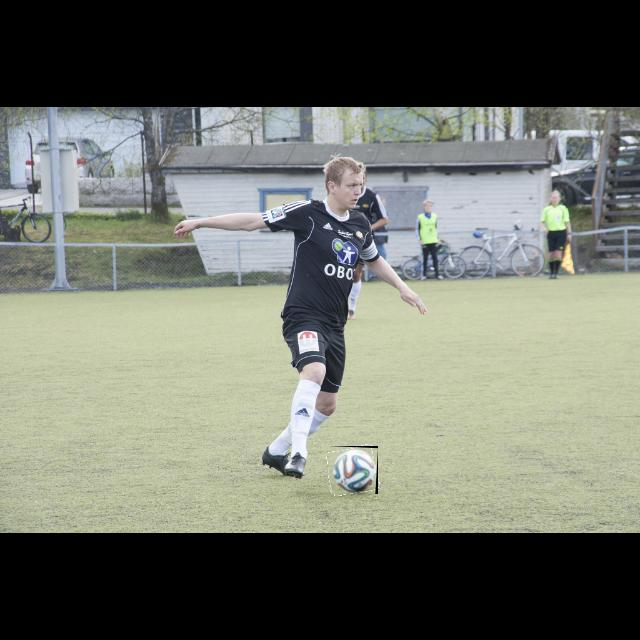Football: (328, 446, 378, 494)
